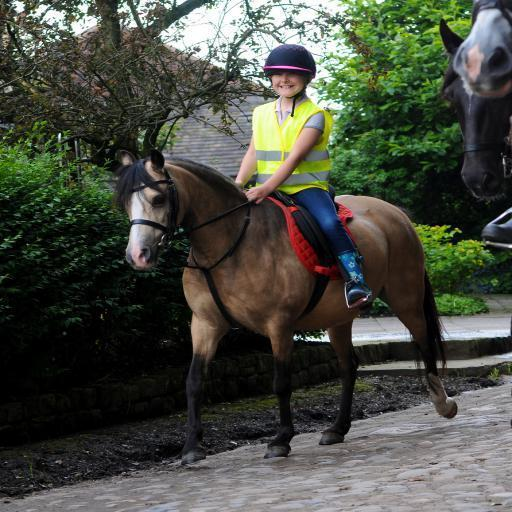horse: (106, 148, 458, 468), (436, 0, 512, 203), (451, 0, 512, 100)
